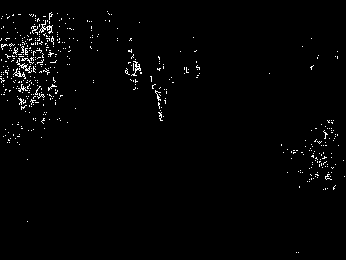person: (150, 54, 175, 122)
